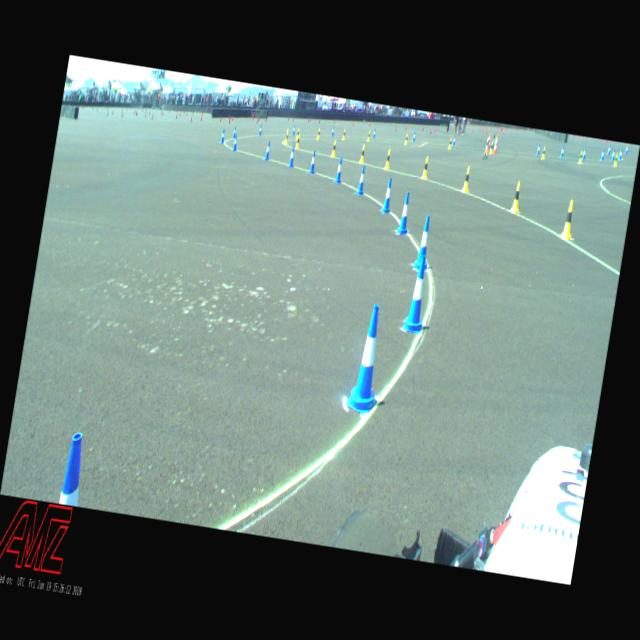blue_cone: (345, 303, 391, 415), (402, 254, 433, 333), (60, 432, 90, 507), (414, 215, 436, 271), (396, 192, 414, 236), (382, 177, 396, 214), (357, 166, 368, 196), (334, 156, 344, 184), (308, 150, 318, 173), (288, 146, 296, 168), (264, 141, 272, 161), (232, 134, 238, 152), (220, 129, 226, 144), (292, 124, 296, 136), (560, 146, 564, 158), (492, 134, 496, 146), (536, 144, 540, 155), (618, 149, 622, 160), (259, 125, 263, 136), (582, 149, 586, 160), (233, 127, 237, 138), (601, 150, 605, 160), (612, 150, 616, 160), (412, 133, 416, 142), (373, 128, 376, 138), (453, 136, 456, 146), (608, 145, 610, 155), (626, 145, 628, 154), (332, 127, 334, 136)
large_orange_cone: (492, 134, 500, 154), (483, 139, 490, 159), (486, 132, 492, 150)
yellow_cone: (561, 199, 577, 239), (510, 180, 522, 212), (462, 165, 472, 192), (421, 156, 430, 180), (384, 149, 392, 169), (359, 145, 366, 163), (331, 140, 338, 156), (284, 128, 290, 144), (578, 151, 583, 164), (296, 134, 300, 149), (316, 128, 321, 140), (489, 142, 494, 154), (542, 147, 546, 159), (296, 128, 300, 140), (367, 130, 371, 142), (614, 154, 618, 166), (448, 138, 452, 148), (404, 134, 408, 144), (343, 130, 346, 140)
